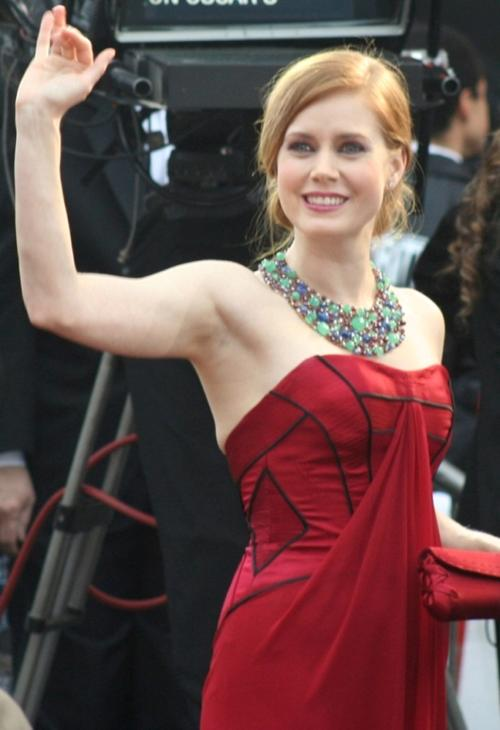person: (14, 3, 500, 730)
